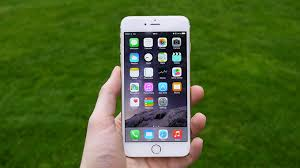iphone: (120, 12, 193, 159)
iphone6: (119, 12, 192, 159)
